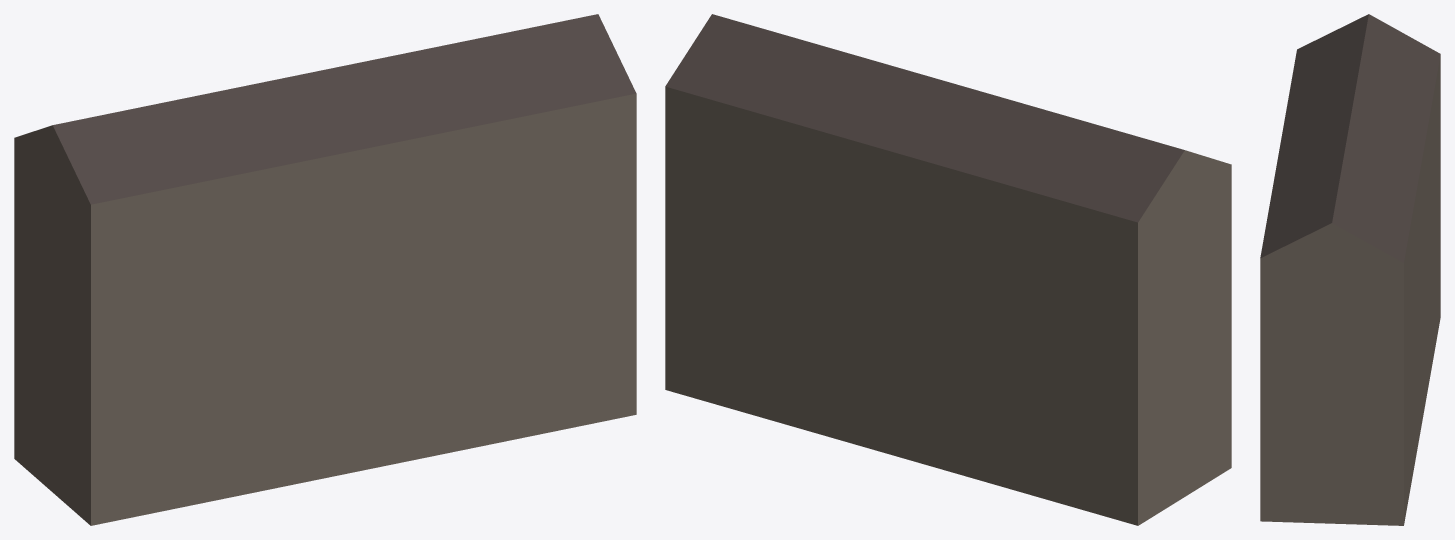
3 renders of one model, left to right at view 1: azimuth 30°, elevation 25°; view 2: azimuth 150°, elevation 25°; view 3: azimuth 270°, elevation 25°, orthographic. The views are drawn at different scales.
Visible parts, largest first — view 1: HP-w1424106484; view 2: HP-w1424106484; view 3: HP-w1424106484.
Part boxes in pixels (x1,y1,x2,y2): HP-w1424106484: [14, 14, 636, 525]; HP-w1424106484: [665, 14, 1231, 525]; HP-w1424106484: [1260, 14, 1440, 525].
Bounding box in the file's own units: 15.67 × 10.29 × 5.6.
